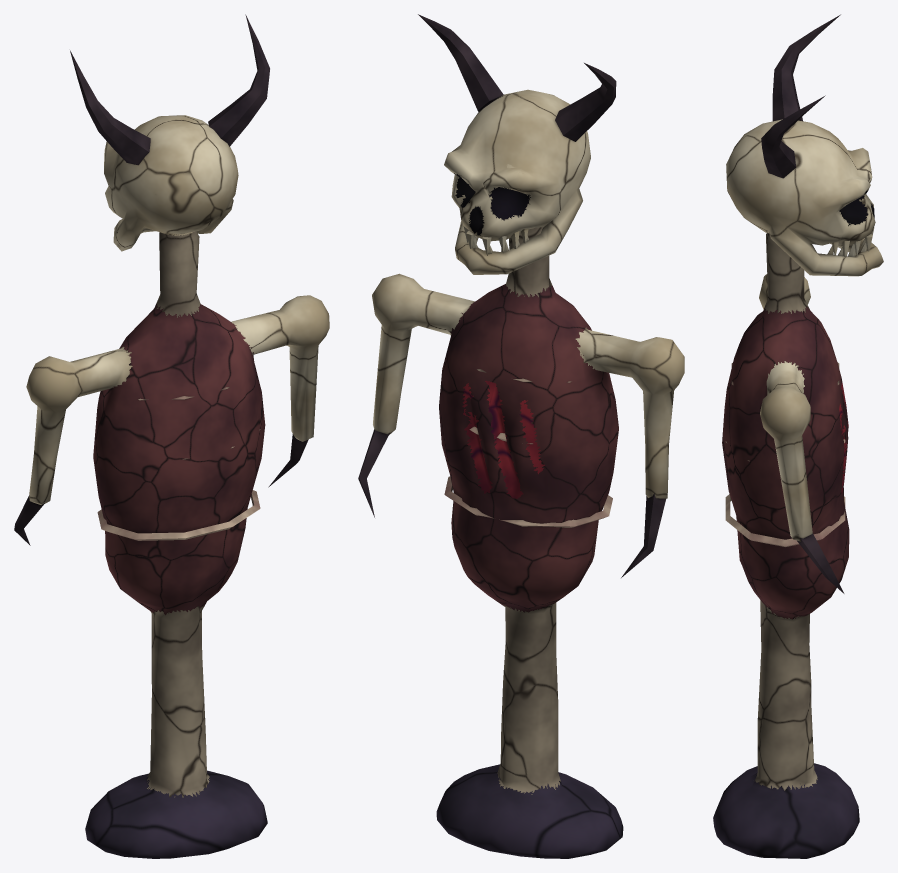
Rendered from muneco_entrenamiento.fbx.
3 views of the same model, side by side, from view 1: azimuth 30°, elevation 25°; view 2: azimuth 150°, elevation 25°; view 3: azimuth 270°, elevation 25° (orthographic). The views are drawn at different scales.
Visible parts, largest first — view 1: muneco; view 2: muneco; view 3: muneco.
Boxes of the visible parts, bbox=[...] form: muneco: bbox=[14, 14, 329, 858]; muneco: bbox=[358, 14, 684, 858]; muneco: bbox=[713, 14, 883, 858].
Size of the model in its own units: 2 by 5 by 1.01.
Materials: 1 (1 with a texture image).
